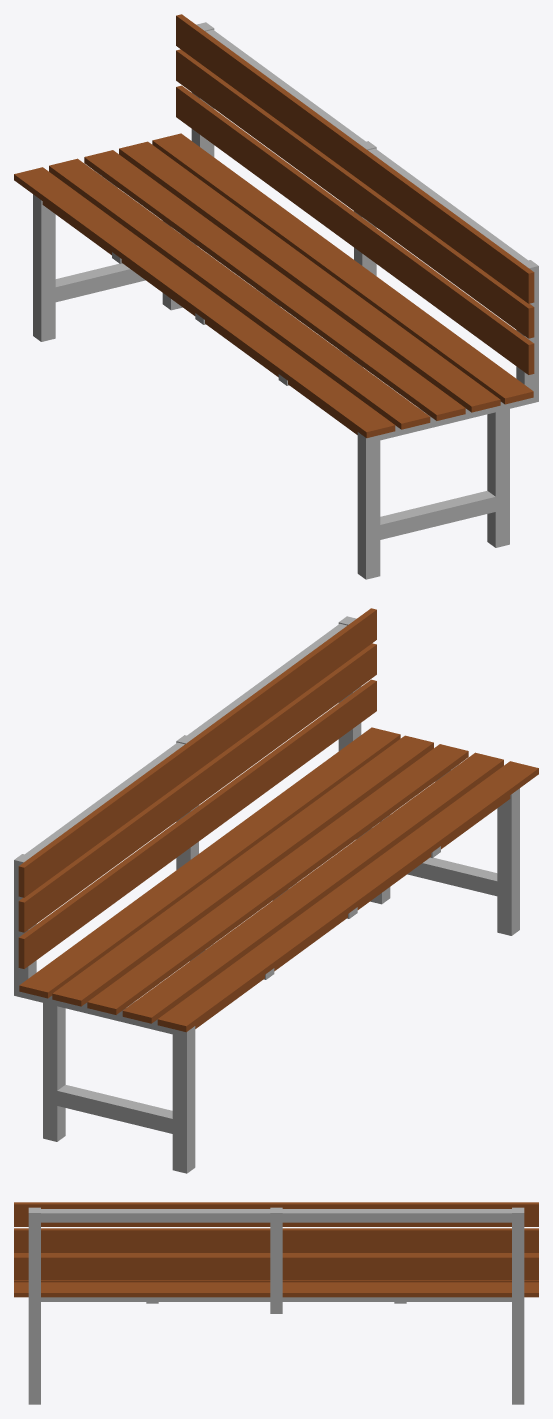
File: Bench4_1.fbx
3 renders of one model, top to bottom at view 1: azimuth 30°, elevation 25°; view 2: azimuth 150°, elevation 25°; view 3: azimuth 270°, elevation 25°, orthographic. The views are drawn at different scales.
Visible parts, largest first — view 1: Плоскость.057; view 2: Плоскость.057; view 3: Плоскость.057.
Part boxes in pixels (bbox=[...]): Плоскость.057: bbox=[14, 14, 538, 579]; Плоскость.057: bbox=[14, 608, 538, 1173]; Плоскость.057: bbox=[14, 1202, 538, 1404].
Size of the model in its own units: 63.2 by 91.44 by 212.
